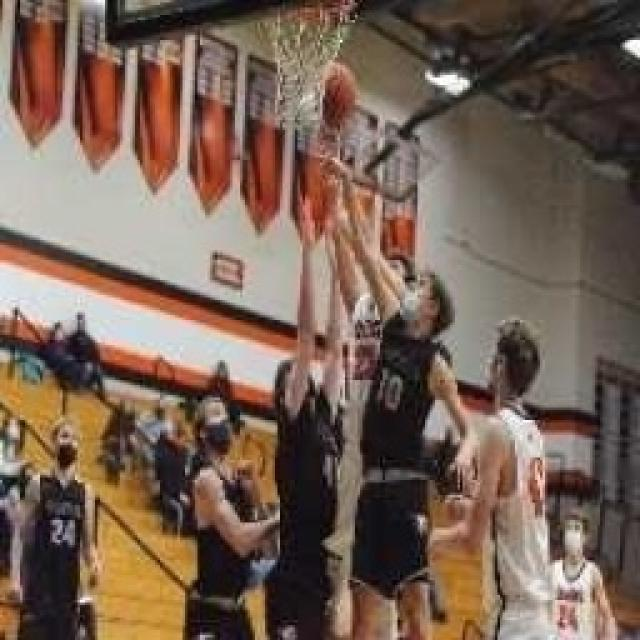rim: (300, 56, 360, 133)
